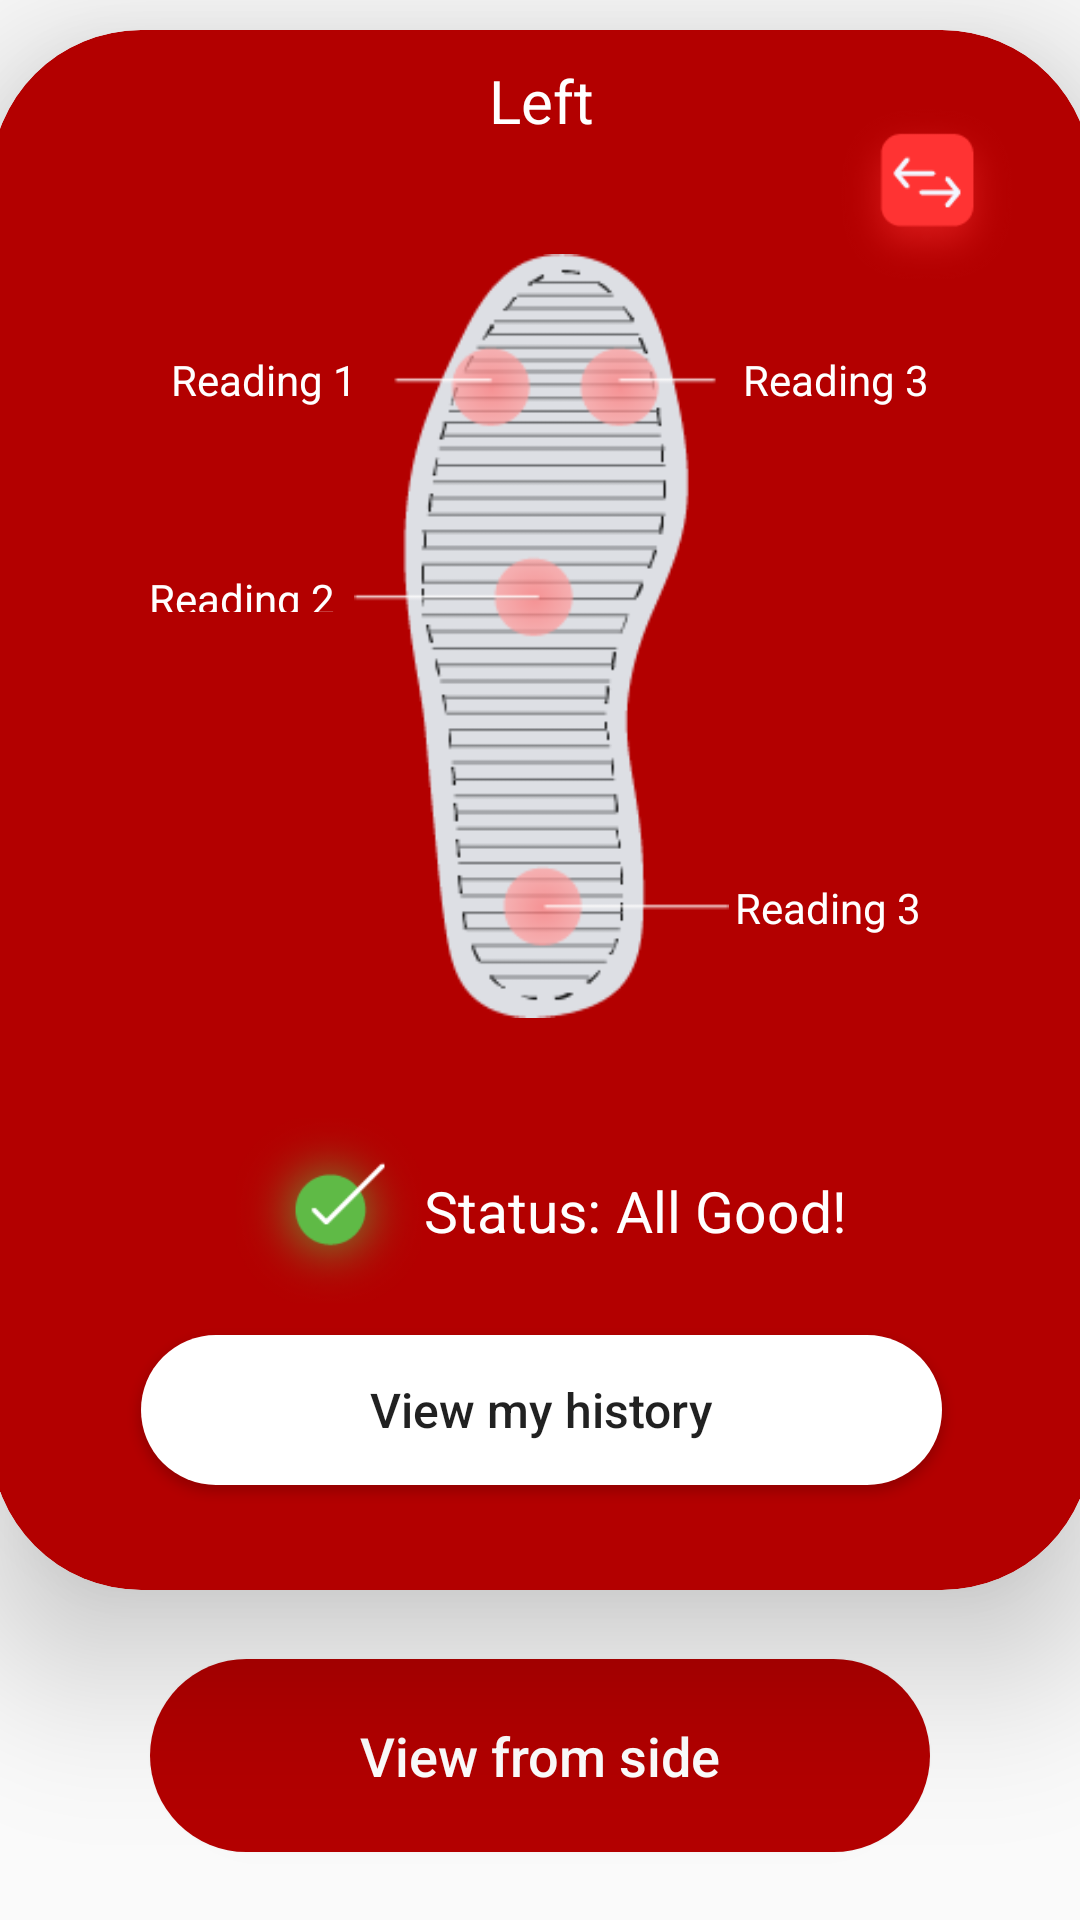

Point at icon controls on the screen. Image size 1080px x 1920px, points as point (x, y).
swap: point (927, 184)
